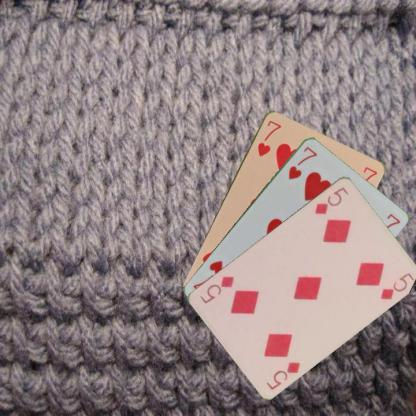5d: (310, 184, 350, 216), (264, 358, 301, 390)
7h: (285, 144, 319, 180), (254, 117, 283, 158)
